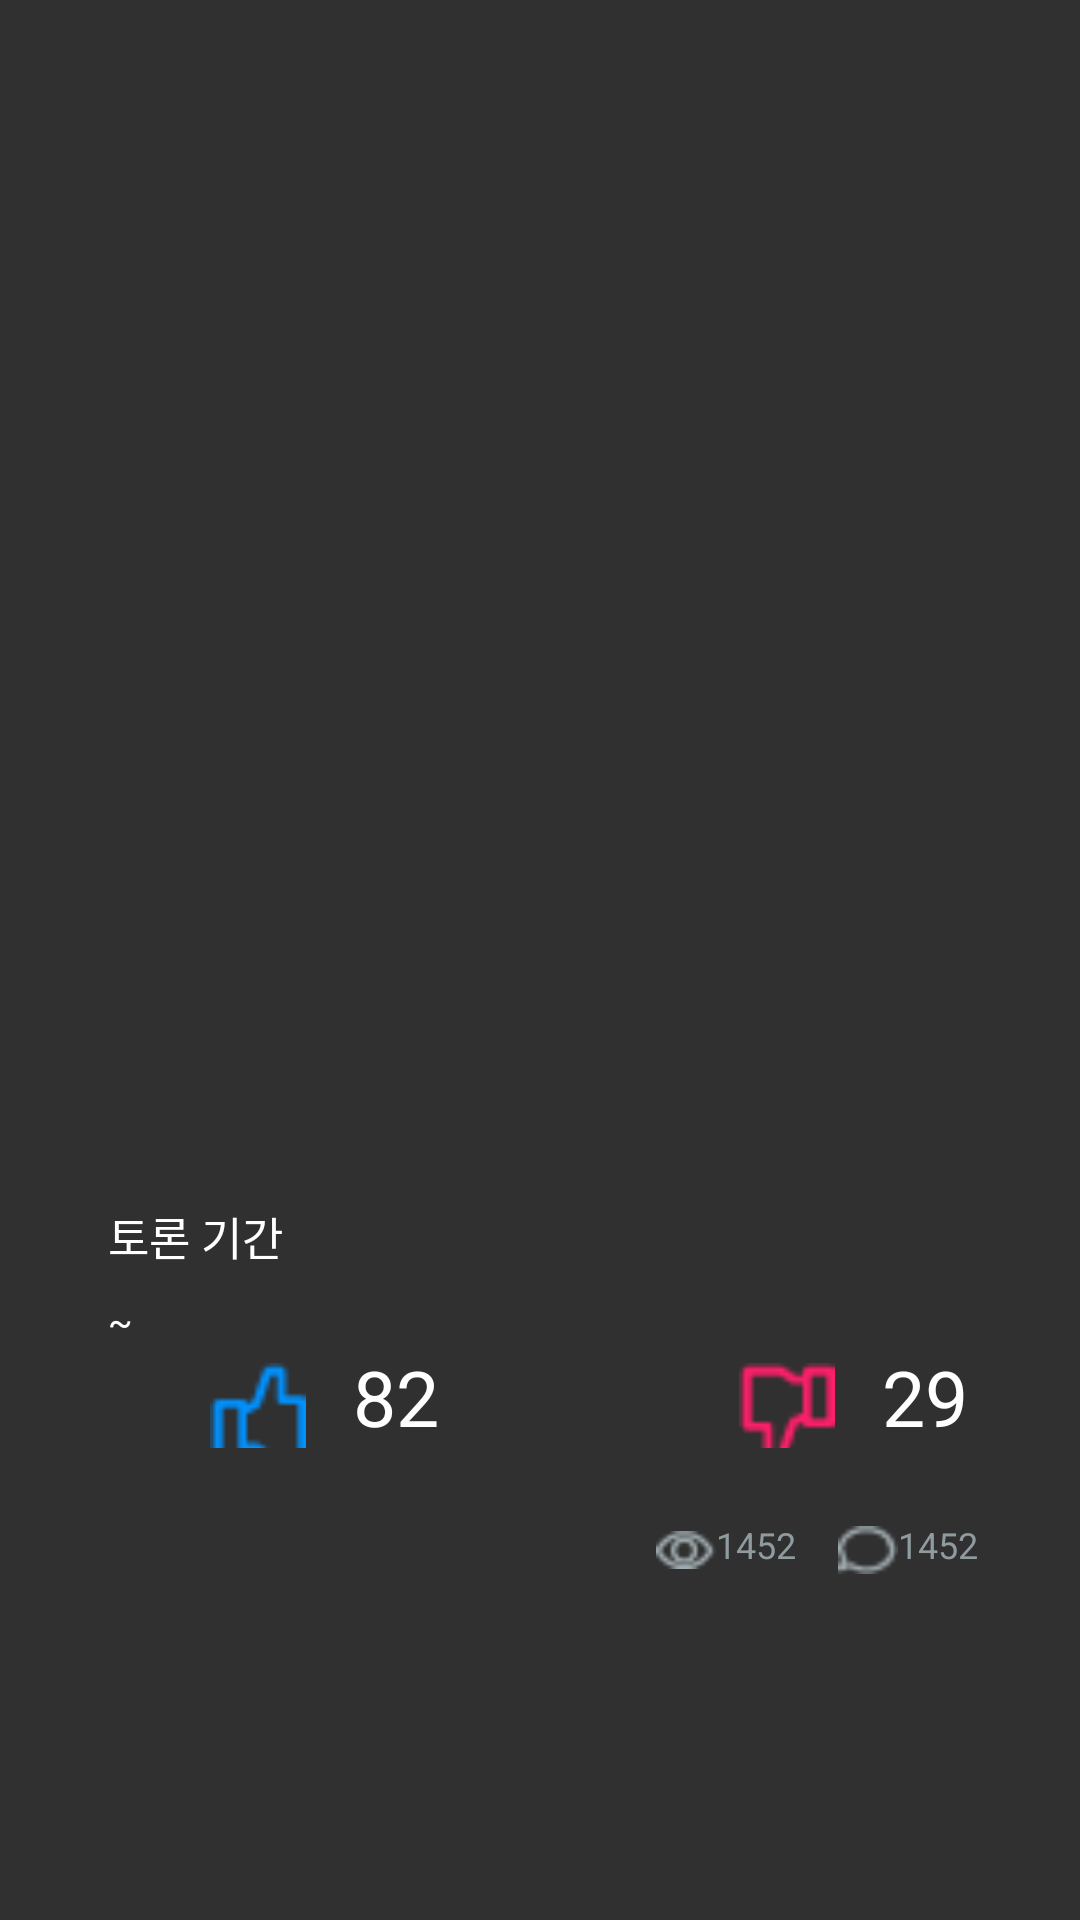

Screen size 1080w x 1920h. Icon name, then its center in pixels as point (x, y):
comment: point (868, 1550)
look: point (685, 1550)
